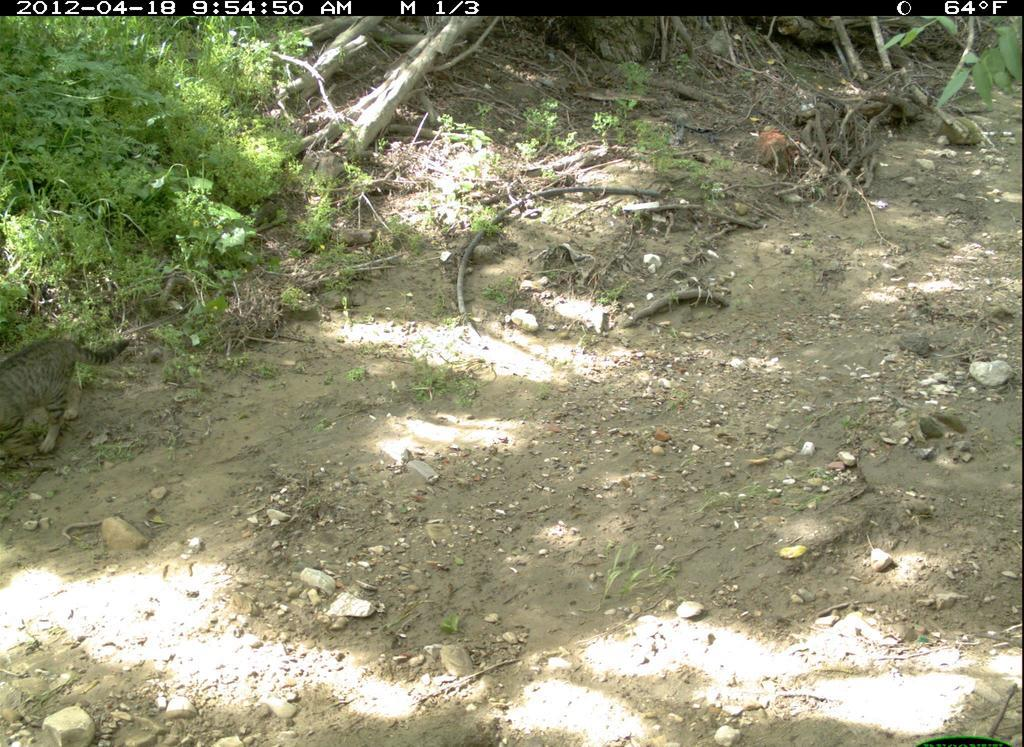cat: (1, 333, 136, 463)
